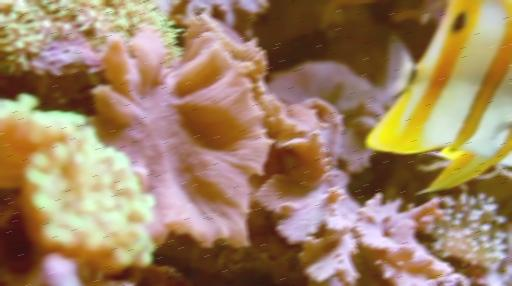Fish: (367, 0, 511, 193)
